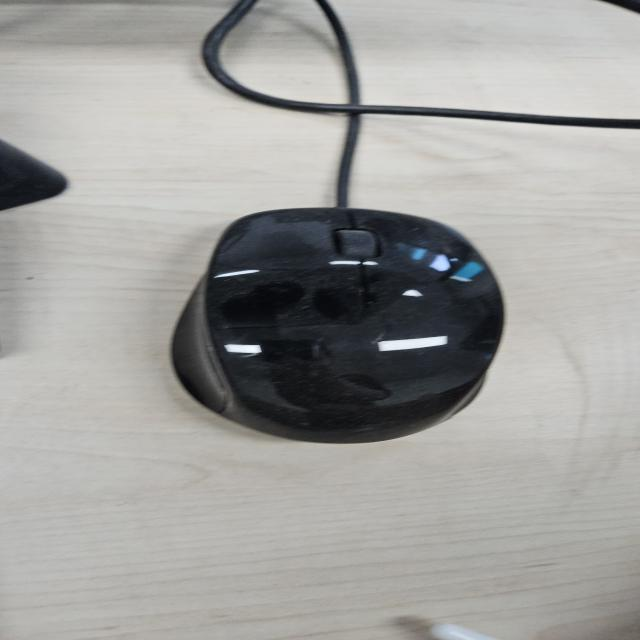Mouse: (167, 205, 509, 445)
